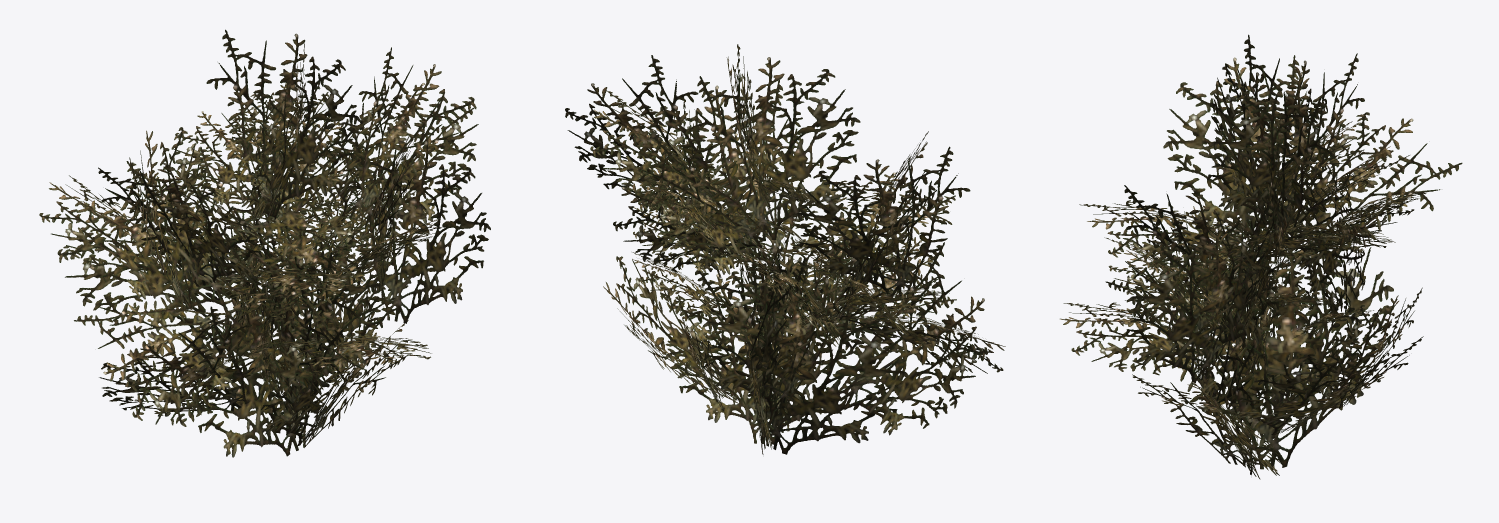
Rendered from wm_灌木大灌木05.fbx.
3 views of the same model, side by side, from view 1: azimuth 30°, elevation 25°; view 2: azimuth 150°, elevation 25°; view 3: azimuth 270°, elevation 25° (orthographic). The views are drawn at different scales.
Visible parts, largest first — view 1: wm_灌木大灌木05; view 2: wm_灌木大灌木05; view 3: wm_灌木大灌木05.
Boxes of the visible parts, left/top/right/bottom form: wm_灌木大灌木05: left=39, top=29, right=490, bottom=457; wm_灌木大灌木05: left=565, top=44, right=1005, bottom=454; wm_灌木大灌木05: left=1059, top=34, right=1462, bottom=479.
Size of the model in its own units: 248 by 222 by 194.
